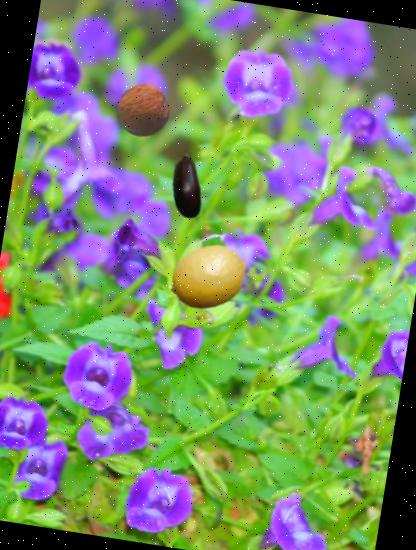Eggplant: (148, 149, 224, 226)
Lemon: (163, 231, 255, 323)
Walnut: (112, 80, 175, 143)
